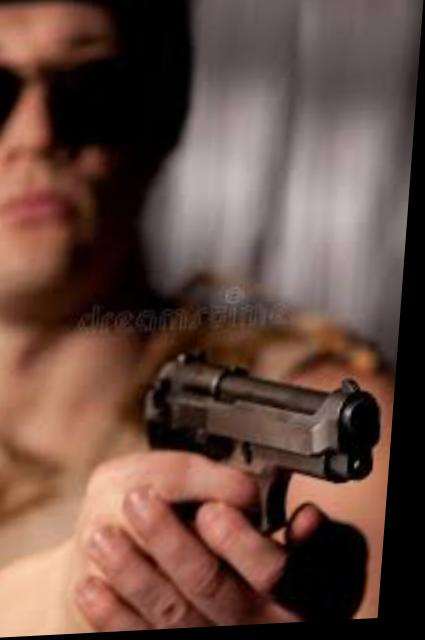other: (0, 0, 419, 637)
